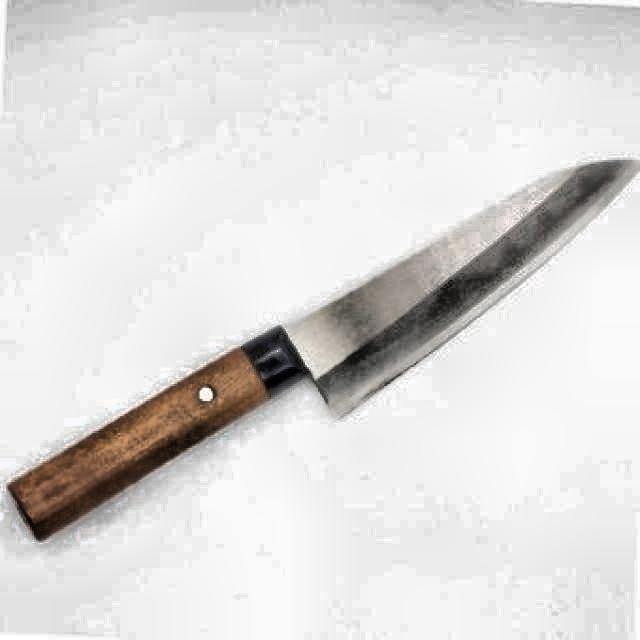knife: (3, 154, 638, 544)
